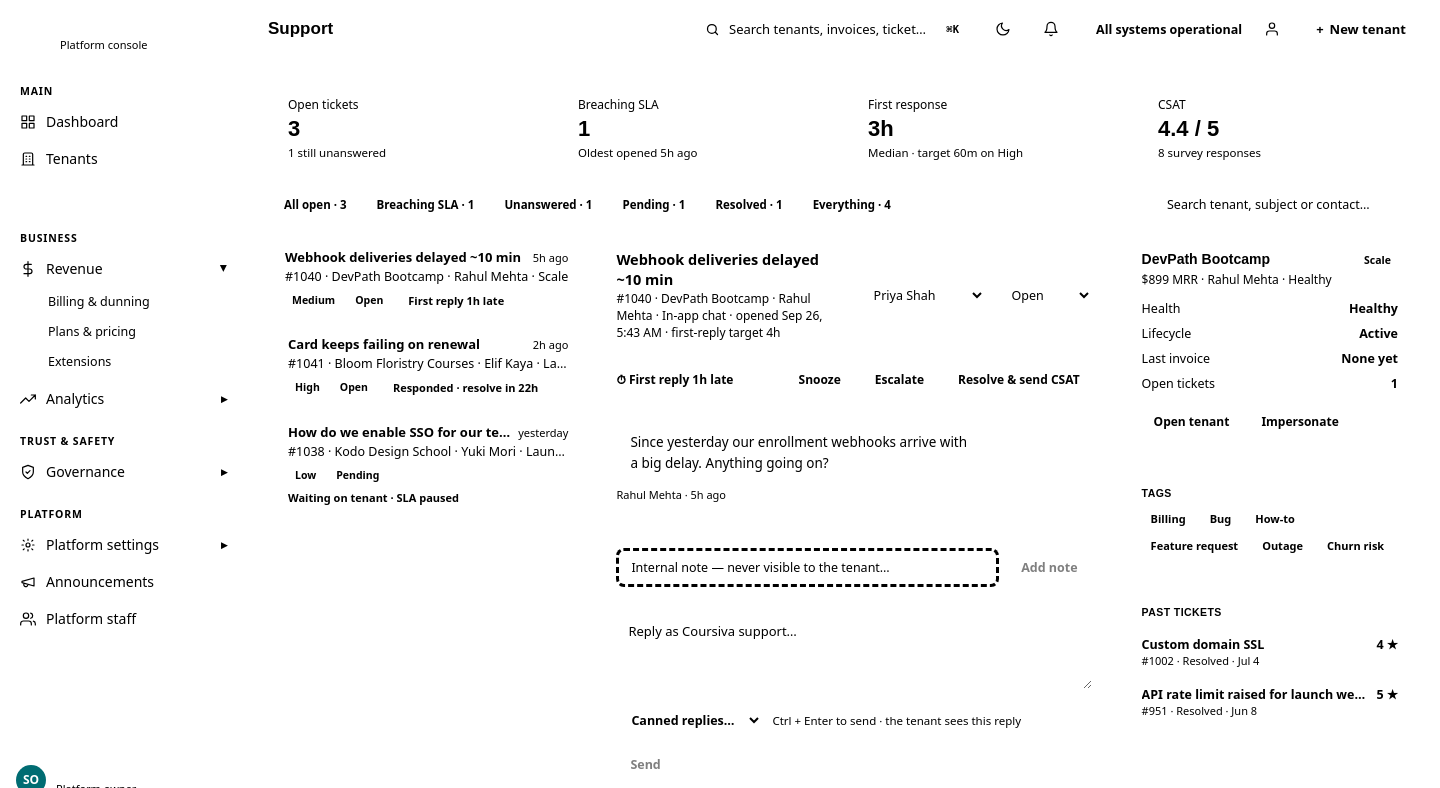
Test case: support inbox › sends a reply that persists and clears the composer
This screenshot has width=1440, height=788.
Expected: the heading "Webhook deliveries delayed ~10 min" is shown, x1=616 y1=249 x2=847 y2=289
Type "We are replaying the queue now." into the text box labelled "Reply". click: (854, 651)
box: x1=616 y1=613 x2=1092 y2=689
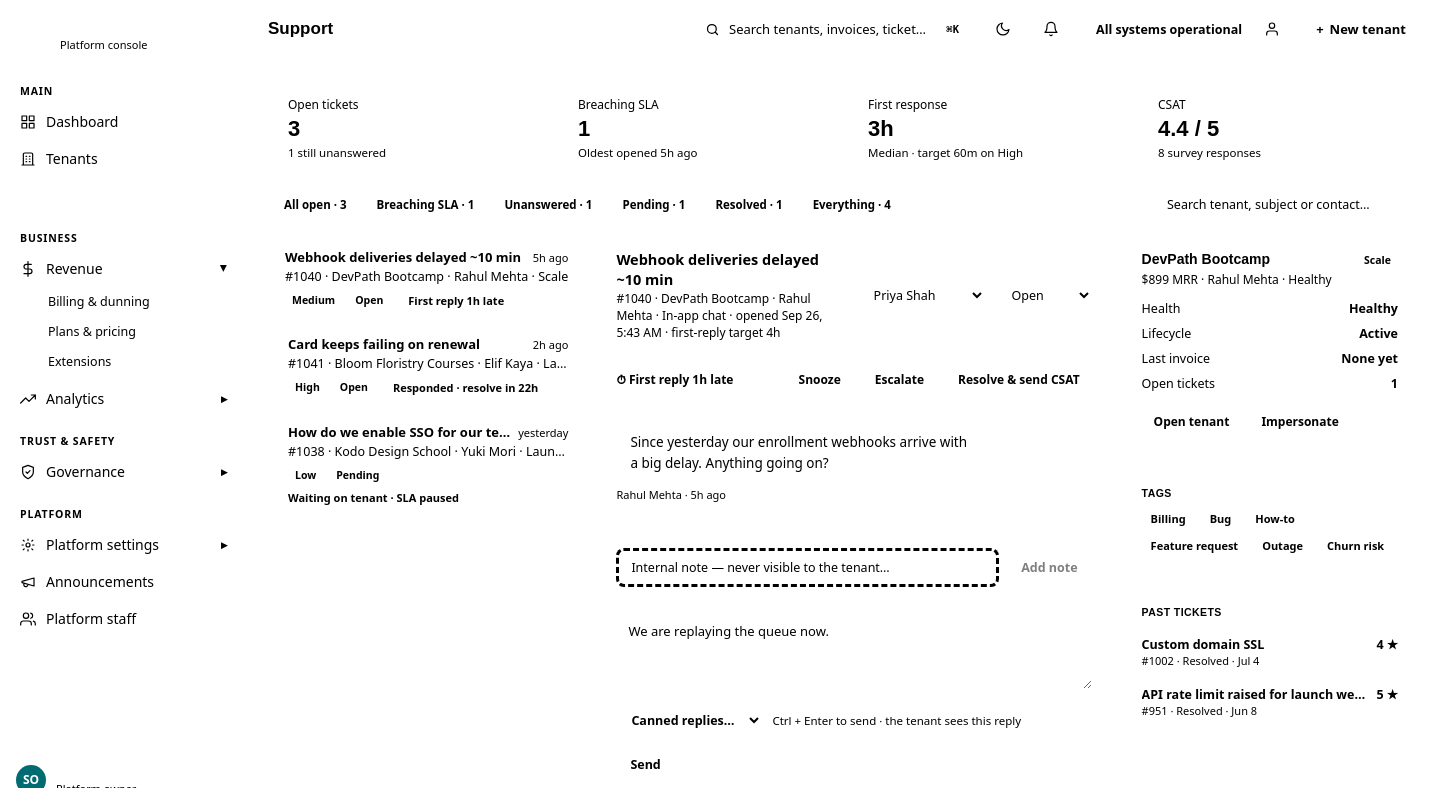
Click the button "Send". click: click(646, 765)
box: x1=616 y1=748 x2=675 y2=781
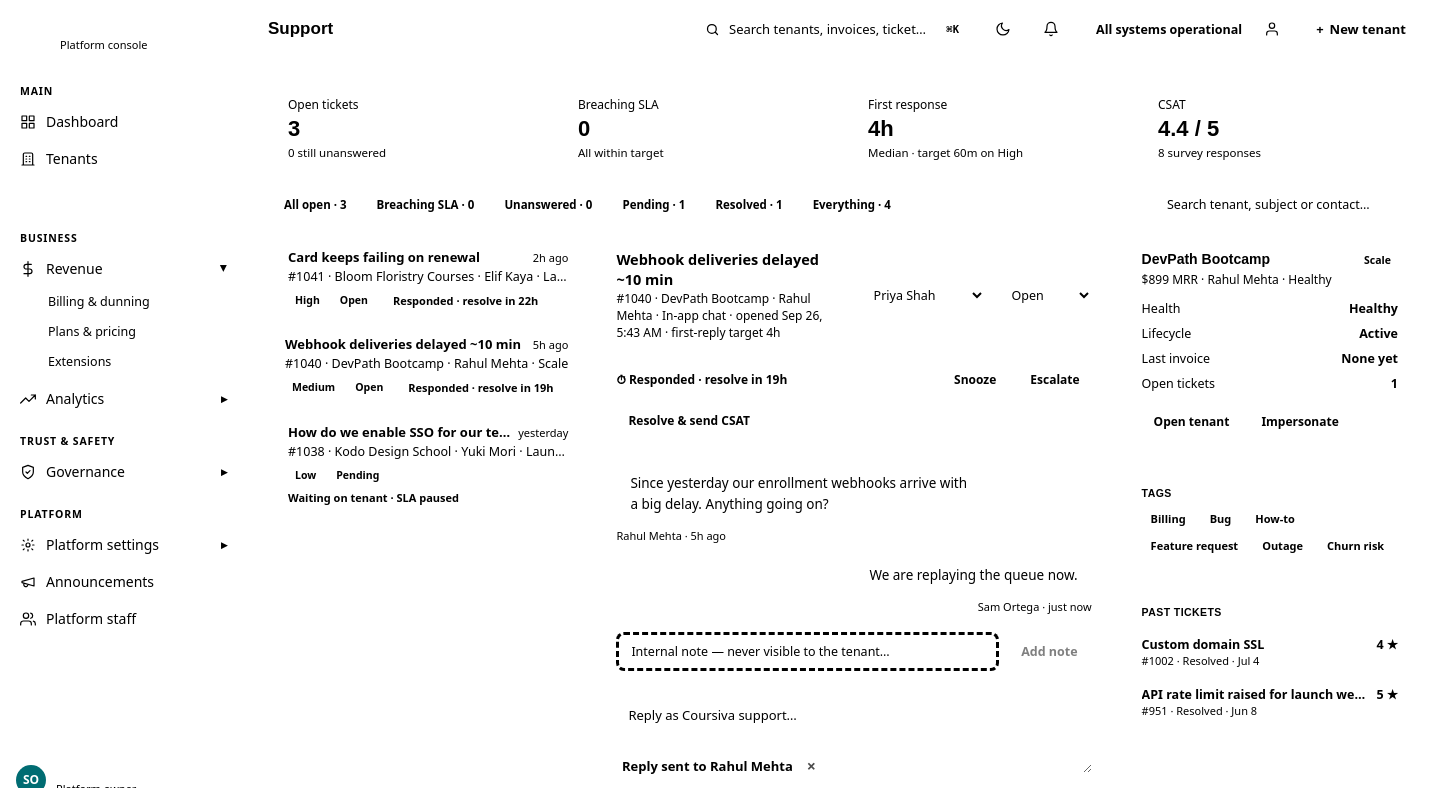
Expected: the text box labelled "Reply" is empty, x1=616 y1=697 x2=1092 y2=773
Expected: the text "We are replaying the queue now." is shown, x1=869 y1=566 x2=1078 y2=584
Expected: the button "Breaching SLA · 0" is shown, x1=364 y1=191 x2=486 y2=218
